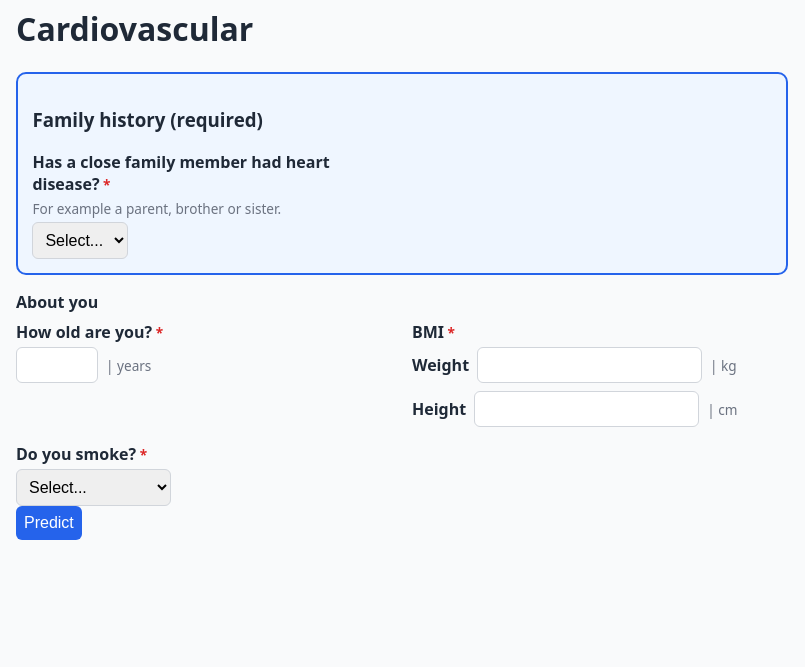
Test case: Predict form › hides the cigarette inputs for never smokers
Select "Currently smoke" in the dropdown labelled "Do you smoke?": (94, 488) [16, 469, 171, 506]
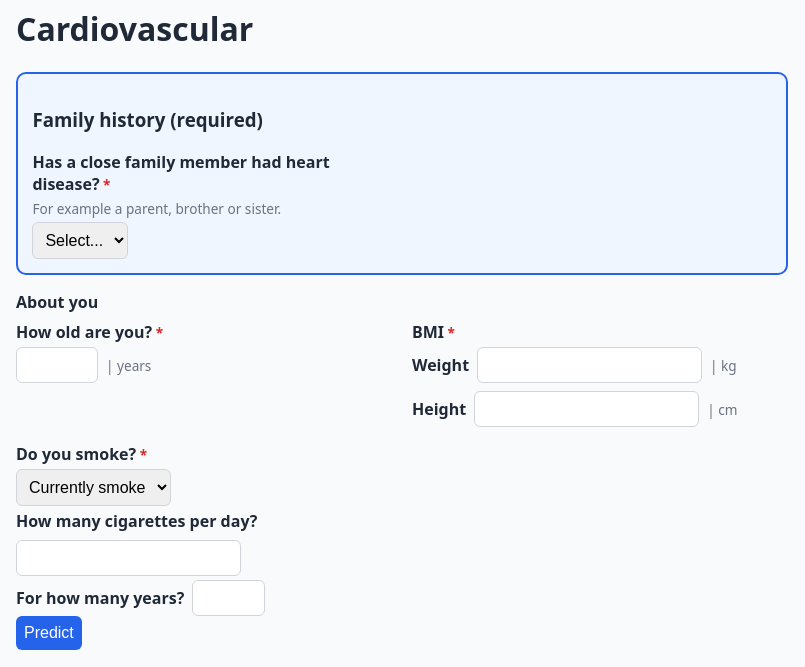
Result: the number field labelled "How many cigarettes per day?" is shown at [16, 540, 241, 576]
Result: the number field labelled "For how many years?" is shown at [192, 580, 265, 616]
Select "Never smoked" in the dropdown labelled "Do you smoke?": (94, 488) [16, 469, 171, 506]
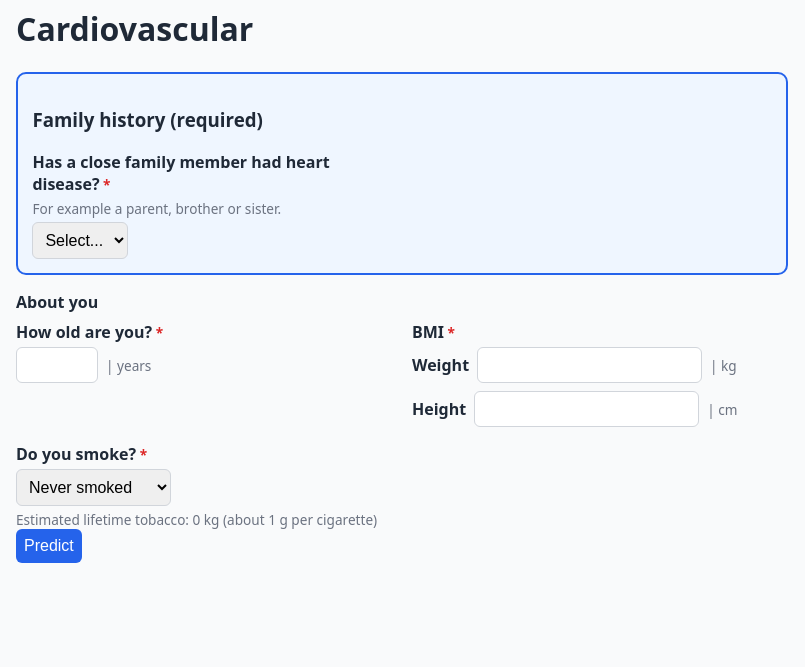
Result: the label labelled "cigarettes per day" is gone
